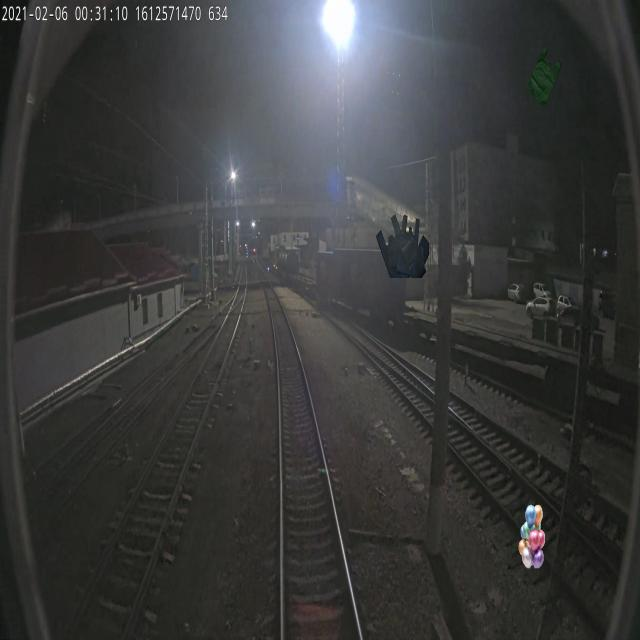balloon: (527, 46, 561, 110), (518, 504, 545, 568)
plastic bag: (376, 214, 430, 278)
